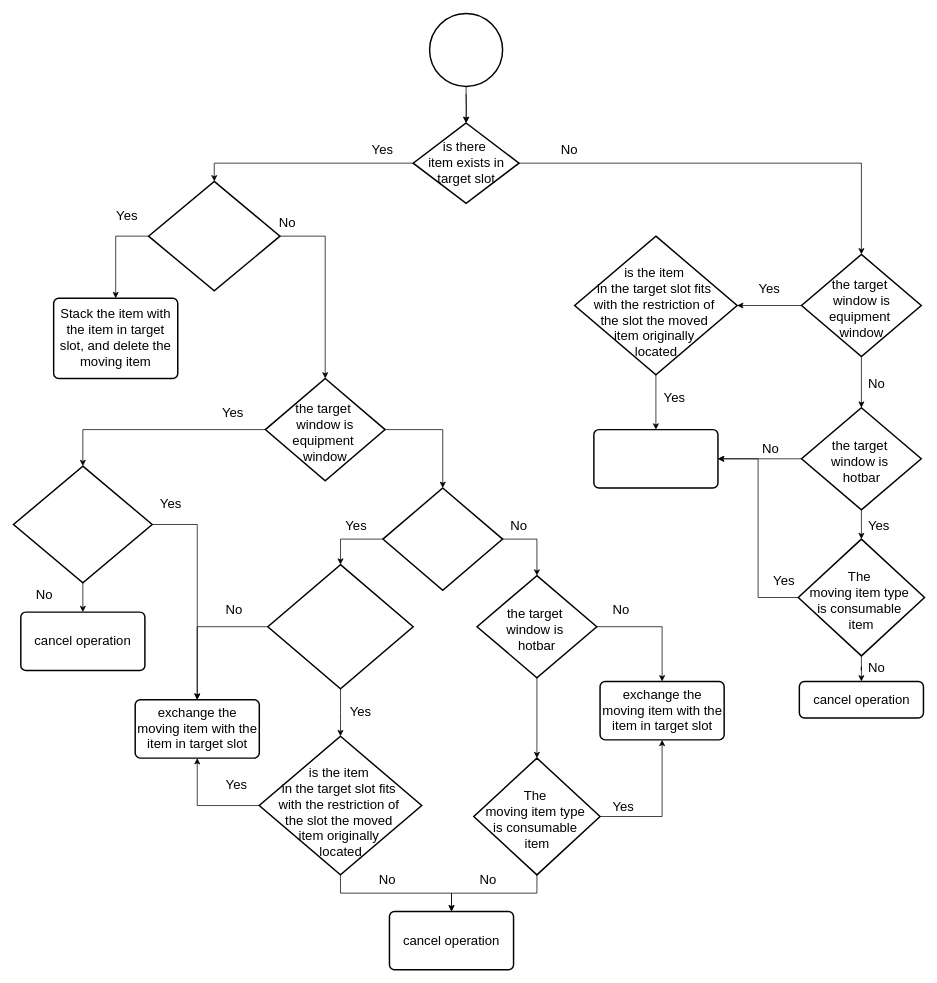
This 937x983 diagram has some shape labels left out. Here are the shapes that lost their labels. From the top down, the centre of each, then its label:
At (x=466, y=49): "Item container changes".
At (x=213, y=235): "is the item can stack with the item in target slot".
At (x=655, y=458): "place the item to target slot".
At (x=82, y=524): "The moving item type fits with the restriction of the target slot".
At (x=442, y=539): "the target window is inventory window".
At (x=340, y=626): "is the window the item move from is equipment window".
